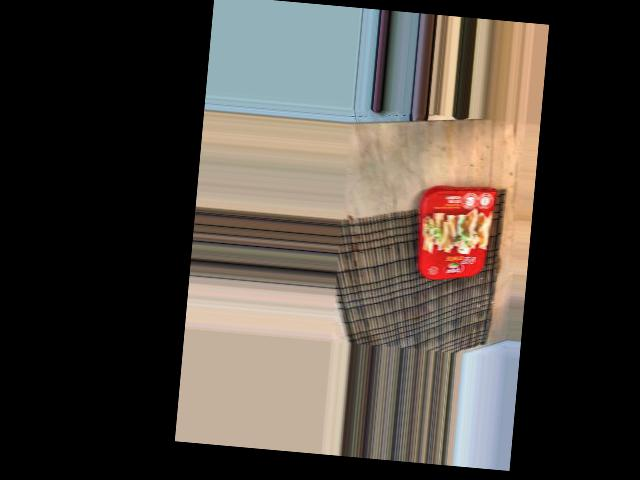cheese: (415, 167, 505, 288)
